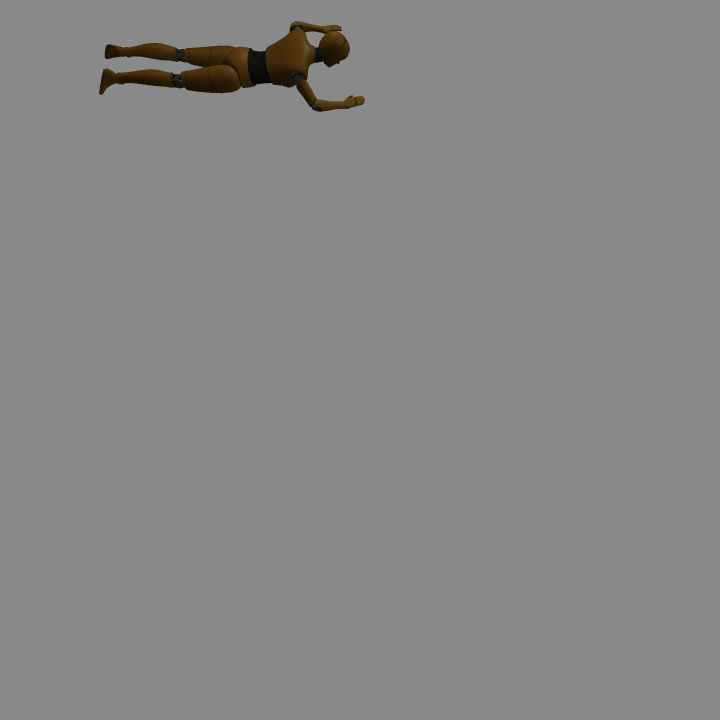victim: (103, 21, 366, 110)
